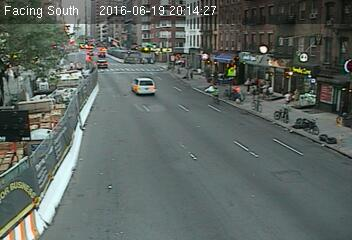neg: (208, 82, 224, 104), (172, 53, 186, 71), (335, 110, 348, 128)
pos: (242, 76, 255, 93), (282, 91, 292, 105), (266, 85, 275, 96), (188, 68, 196, 79)
